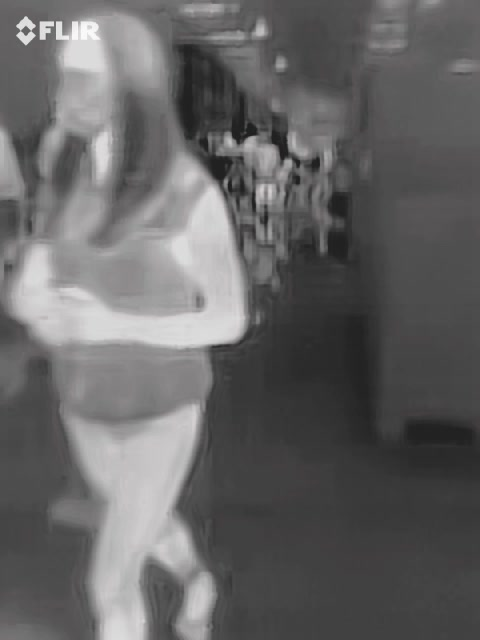head: (52, 11, 166, 142)
